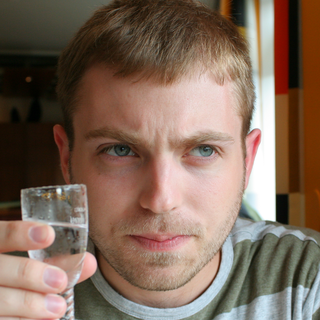eye: (93, 140, 146, 163), (180, 139, 224, 165)
